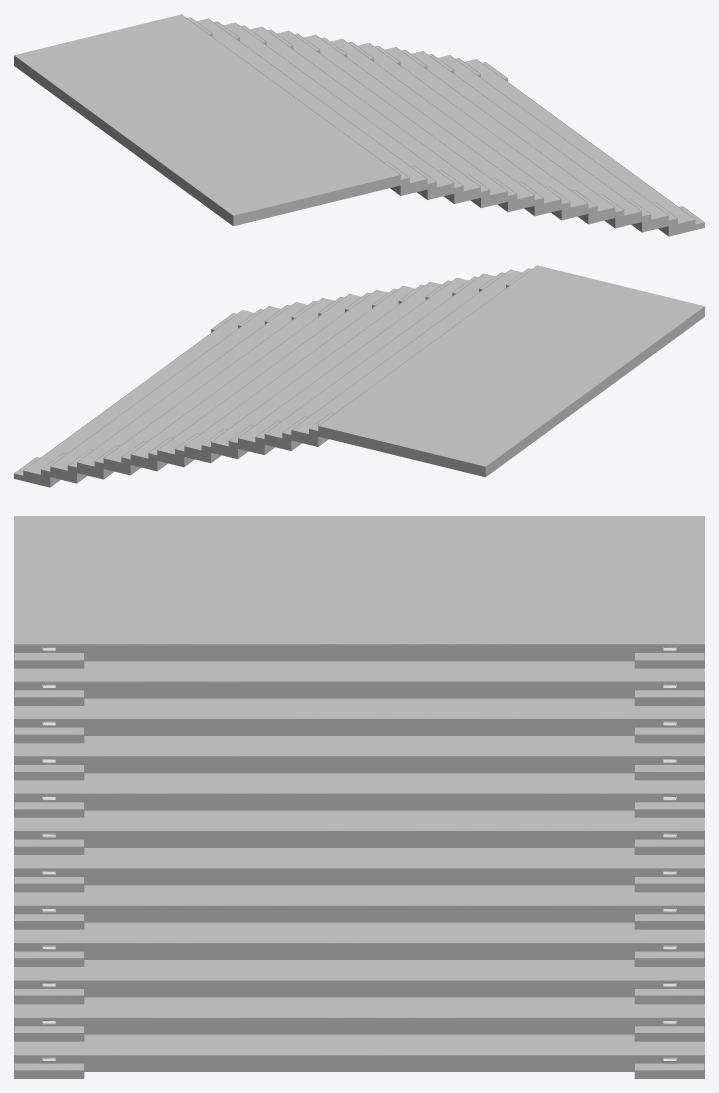
The model's file is Treppe Ende2.fbx.
3 views of the same model, one above another, from view 1: azimuth 30°, elevation 25°; view 2: azimuth 150°, elevation 25°; view 3: azimuth 270°, elevation 25° (orthographic). The views are drawn at different scales.
Parts seen in each view (by area): view 1: Grosse Stufe; view 2: Grosse Stufe; view 3: Grosse Stufe.
Part boxes in pixels (box(x1,y1,x2,y2)): Grosse Stufe: box(14, 14, 704, 236); Grosse Stufe: box(14, 265, 704, 487); Grosse Stufe: box(14, 516, 704, 1078).
Size of the model in its own units: 3167 by 817 by 2550.
